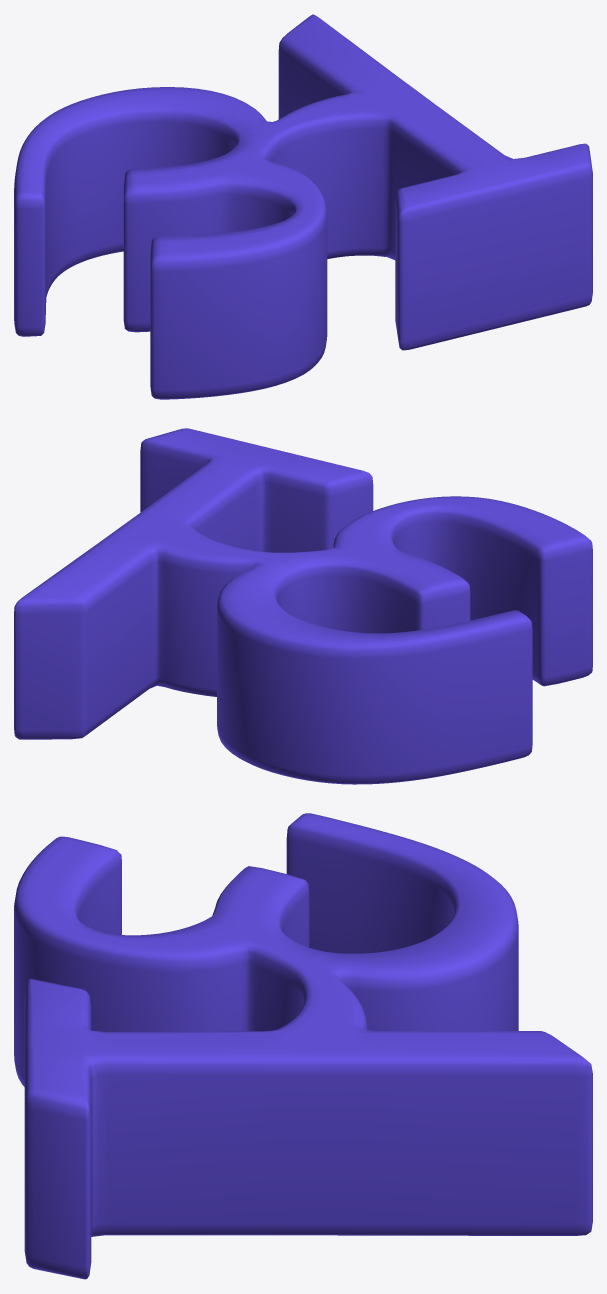
3 views of the same model, one above another, from view 1: azimuth 30°, elevation 25°; view 2: azimuth 150°, elevation 25°; view 3: azimuth 270°, elevation 25° (orthographic). The views are drawn at different scales.
Visible parts, largest first — view 1: 3D_Alphabets_Hindi_Language_02; view 2: 3D_Alphabets_Hindi_Language_02; view 3: 3D_Alphabets_Hindi_Language_02.
Part boxes in pixels (bbox=[...]): 3D_Alphabets_Hindi_Language_02: bbox=[14, 14, 592, 399]; 3D_Alphabets_Hindi_Language_02: bbox=[14, 428, 592, 784]; 3D_Alphabets_Hindi_Language_02: bbox=[14, 813, 592, 1279].
Bounding box in the file's own units: 0.754 × 0.2129 × 0.6235.
